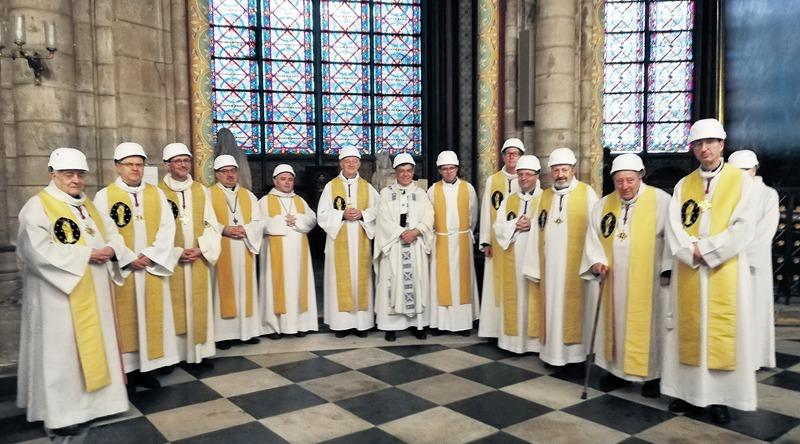helmet: (48, 148, 93, 175), (114, 143, 150, 164), (161, 144, 195, 163), (213, 155, 242, 171)
